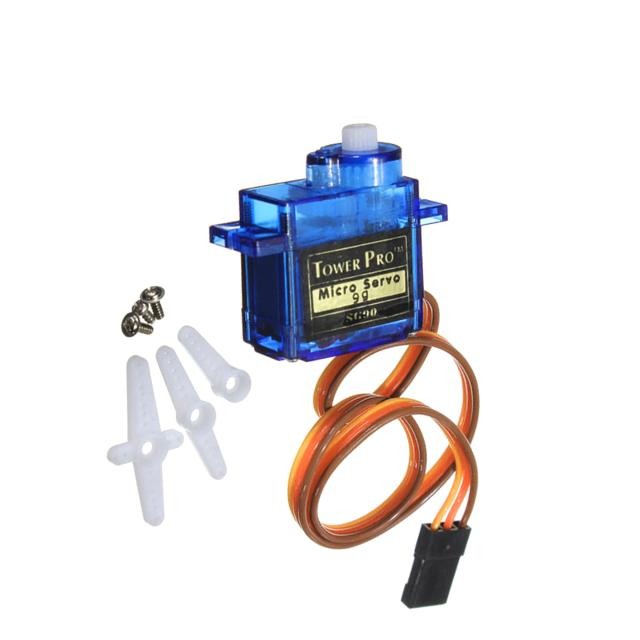motor: (210, 125, 447, 364)
